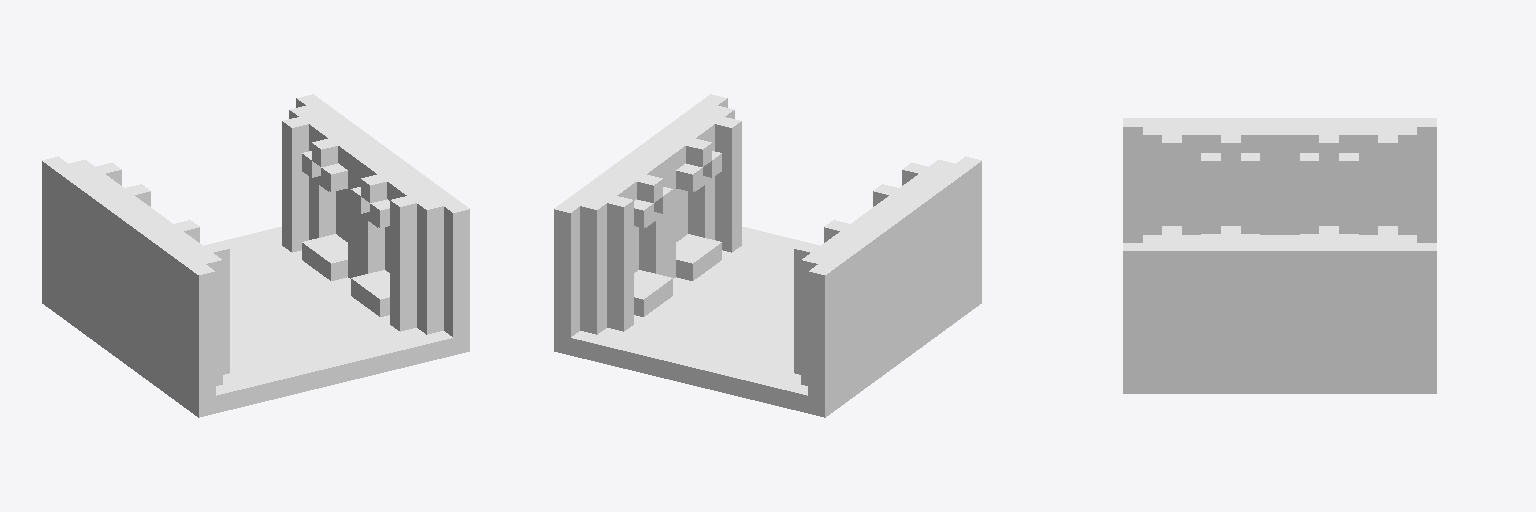
Rendered from towar-18.obj.
The picture shows the model from 3 angles: view 1: azimuth 30°, elevation 25°; view 2: azimuth 150°, elevation 25°; view 3: azimuth 270°, elevation 25°; orthographic projection.
Parts seen in each view (by area): view 1: towar-18; view 2: towar-18; view 3: towar-18.
Part boxes in pixels (x1,y1,x2,y2): towar-18: (42,94,469,417); towar-18: (554,94,981,417); towar-18: (1123,118,1436,393).
Bounding box in the file's own units: 16 × 8 × 16.